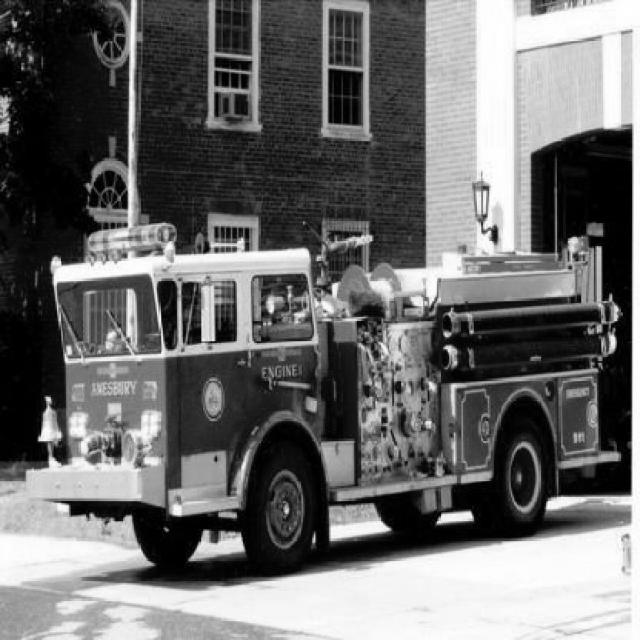Fire Truck: (25, 221, 623, 576)
